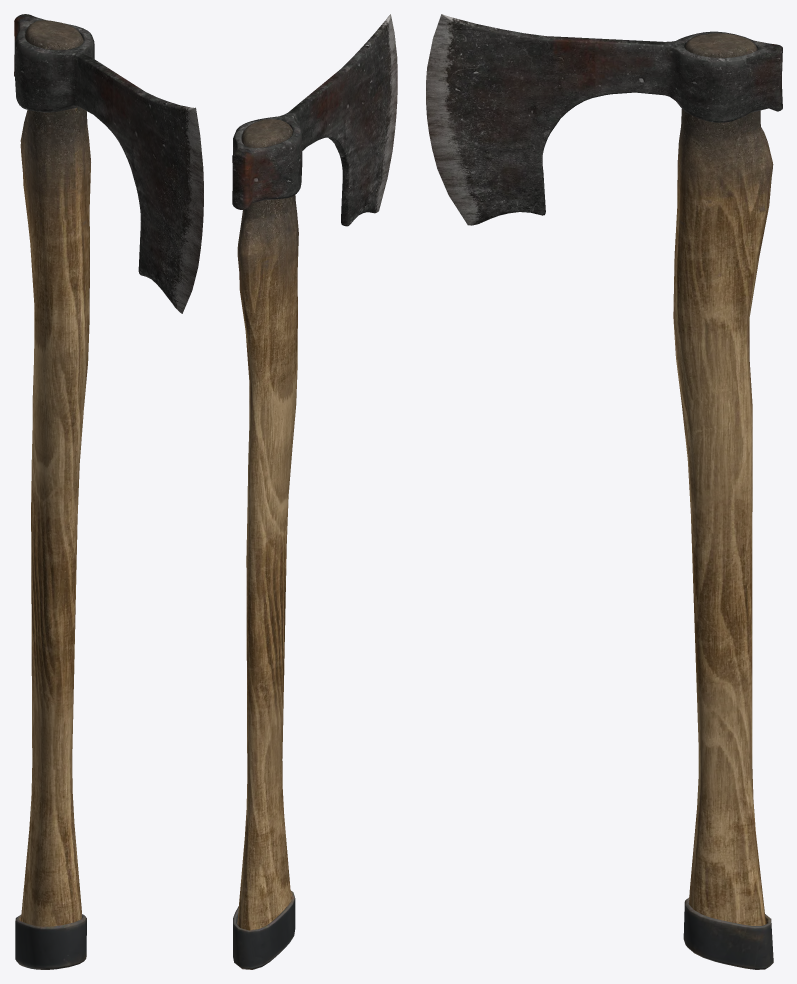
File: w_axe.glb
3 views of the same model, side by side, from view 1: azimuth 30°, elevation 25°; view 2: azimuth 150°, elevation 25°; view 3: azimuth 270°, elevation 25° (orthographic). The views are drawn at different scales.
Parts seen in each view (by area): view 1: wooden_axe; view 2: wooden_axe; view 3: wooden_axe.
Boxes of the visible parts, x1,y1,x2,y2 form: wooden_axe: [14, 14, 203, 969]; wooden_axe: [232, 14, 397, 969]; wooden_axe: [426, 14, 782, 969].
Size of the model in its own units: 0.0472 by 0.6303 by 0.2143.
1 material, 1 textured.
